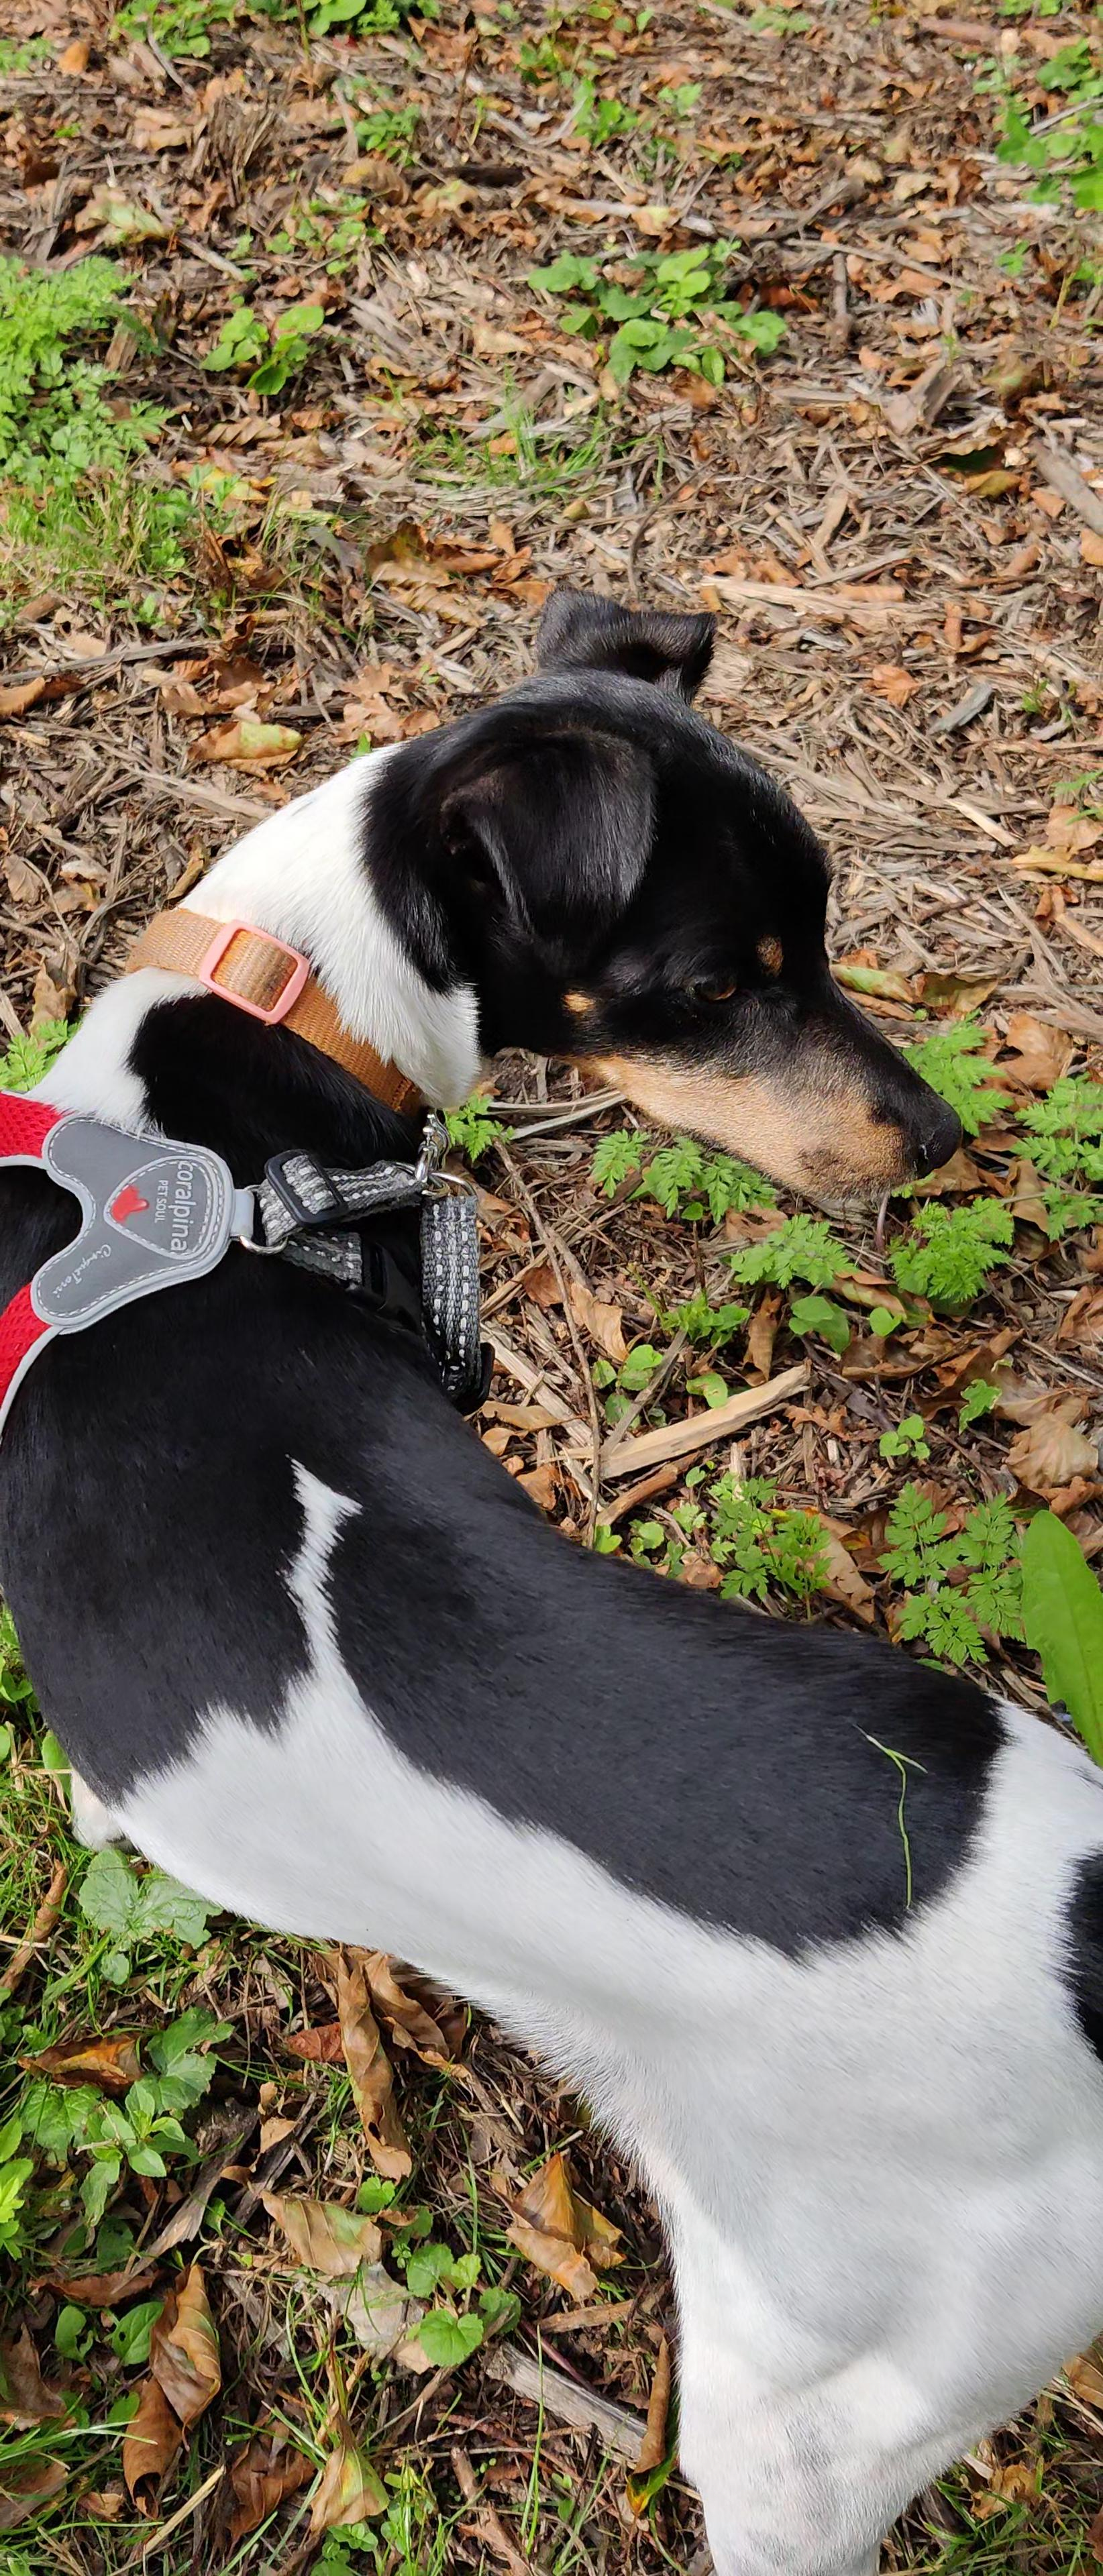Dog: (0, 578, 1103, 2576)
